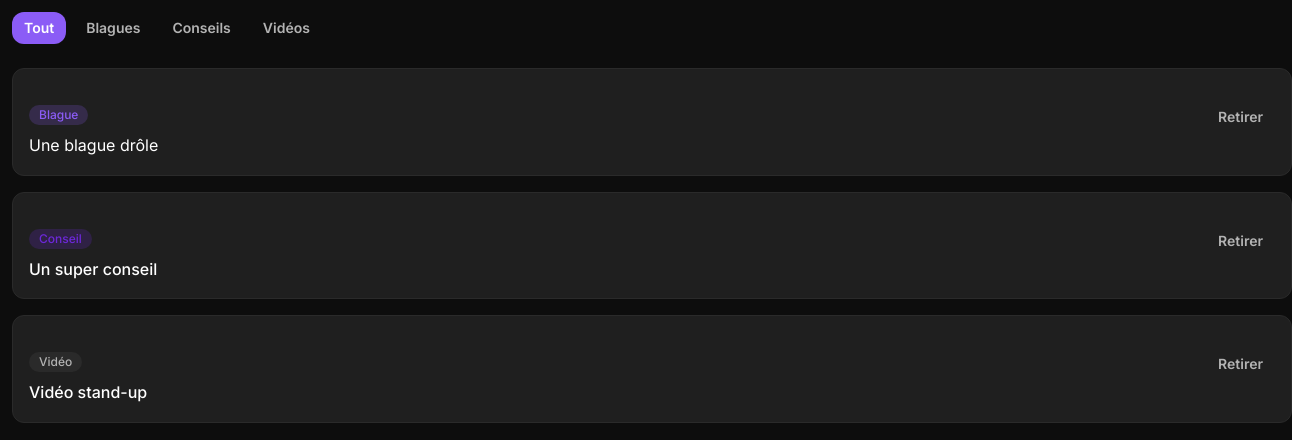
Test case: FavorisList › filters by VIDEO tab
The image size is (1292, 440).
Click the button "Vidéos".
click(286, 28)  # box [251, 12, 322, 44]
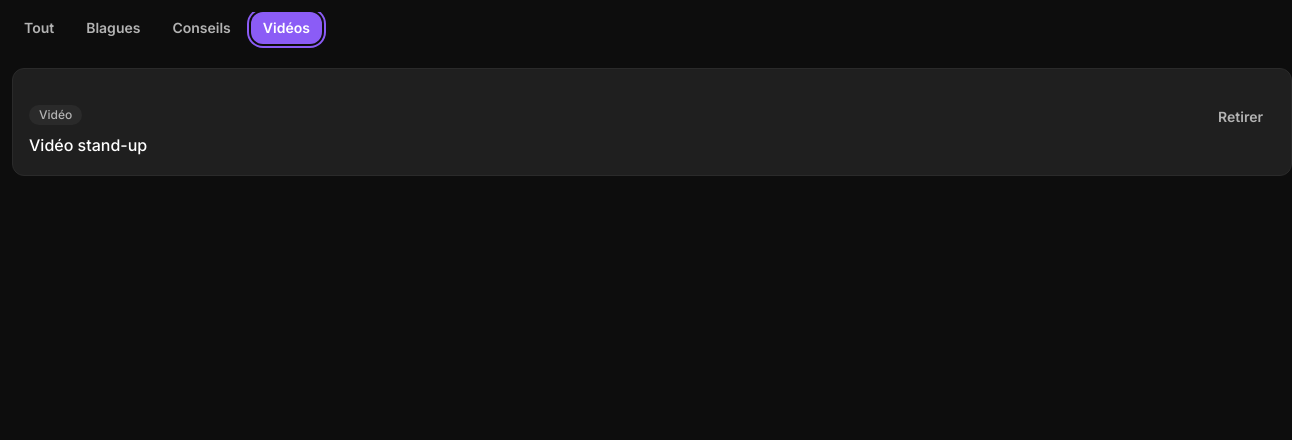
Expected: the text "Vidéo stand-up" is shown, [29, 135, 147, 155]
Now the text "Une blague drôle" is gone
